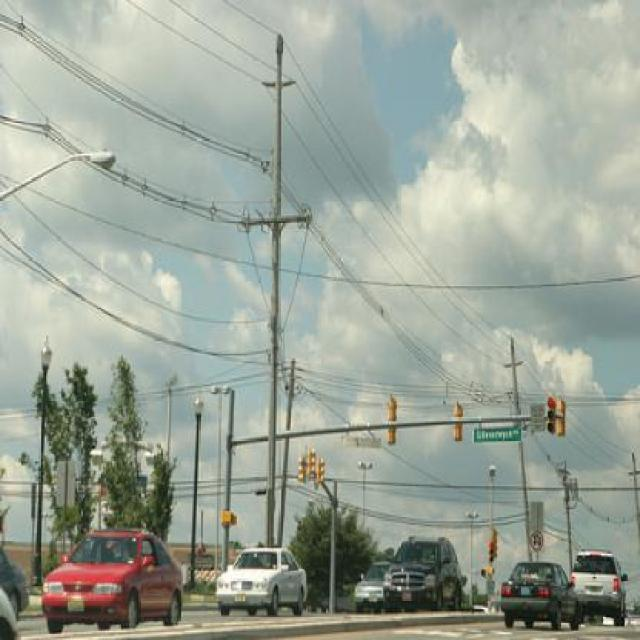pole: (263, 40, 288, 563), (209, 378, 243, 558), (188, 401, 204, 579)
